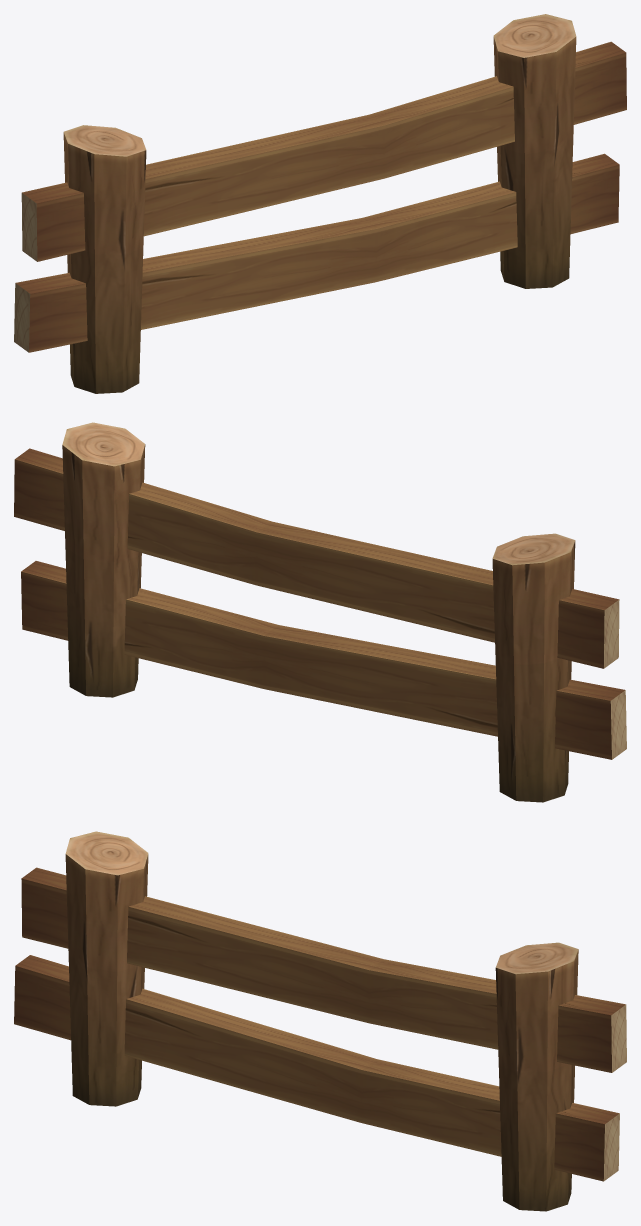
The model's file is wooden_fence_20.fbx.
3 views of the same model, one above another, from view 1: azimuth 30°, elevation 25°; view 2: azimuth 150°, elevation 25°; view 3: azimuth 330°, elevation 25° (orthographic).
Visible parts, largest first — view 1: wooden_fence_20:Mesh; view 2: wooden_fence_20:Mesh; view 3: wooden_fence_20:Mesh.
Boxes of the visible parts, left/top/right/bottom form: wooden_fence_20:Mesh: left=14, top=14, right=626, bottom=393; wooden_fence_20:Mesh: left=14, top=422, right=626, bottom=802; wooden_fence_20:Mesh: left=14, top=831, right=626, bottom=1211.
Bounding box in the file's own units: 7.56 × 2.96 × 0.9473.
